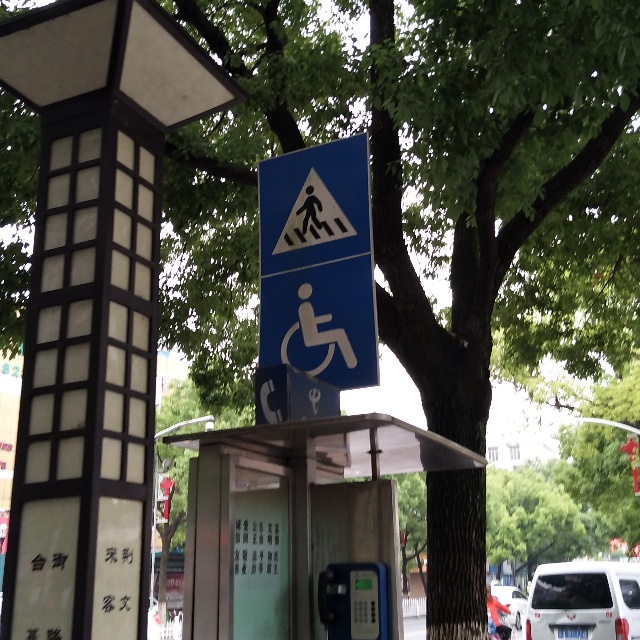crosswalk: (253, 163, 362, 258)
